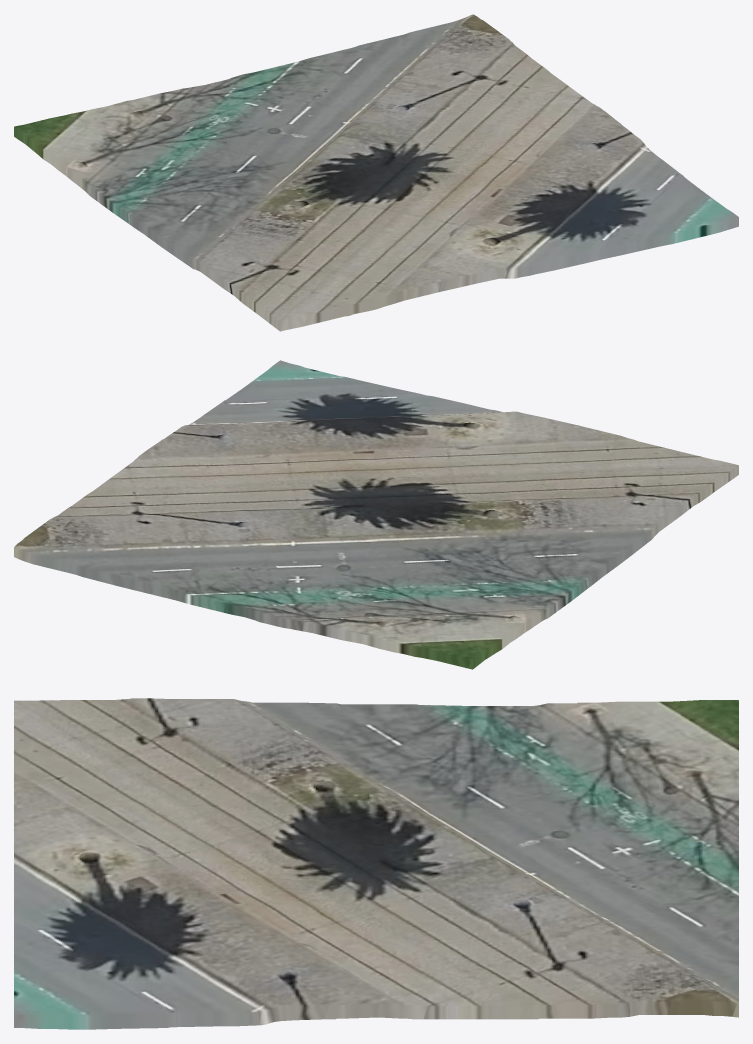
Rendered from z20-167771-405196-h0-yup-uvflip-v3-world.glb.
The picture shows the model from 3 angles, top to bottom: view 1: azimuth 30°, elevation 25°; view 2: azimuth 150°, elevation 25°; view 3: azimuth 270°, elevation 25°; orthographic projection. The views are drawn at different scales.
Bounding box in the file's own units: 30.16 × 1.36 × 30.32.
Materials: 1 (1 with a texture image).
